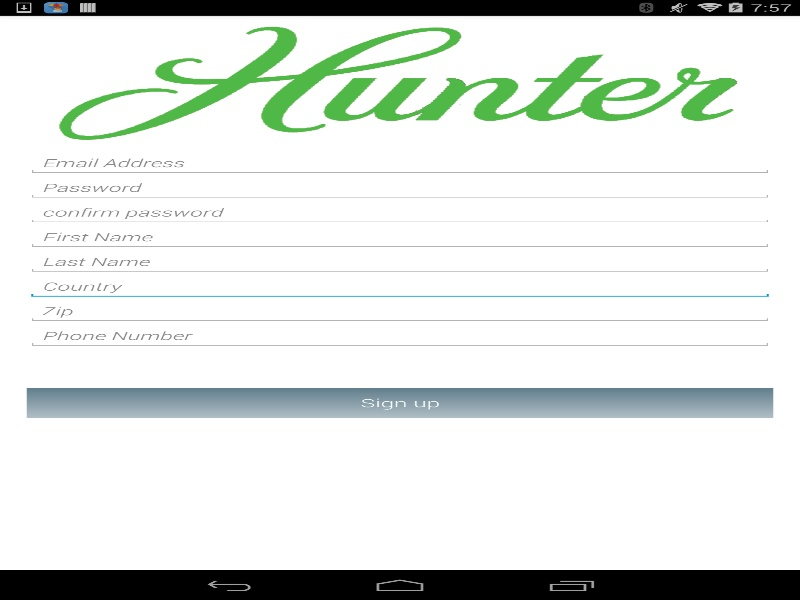Button: (26, 387, 773, 417)
Input: (26, 150, 773, 175), (26, 175, 773, 200), (26, 224, 773, 249), (26, 249, 773, 274), (26, 298, 773, 323), (26, 323, 773, 348), (26, 200, 773, 224), (26, 274, 773, 298)
